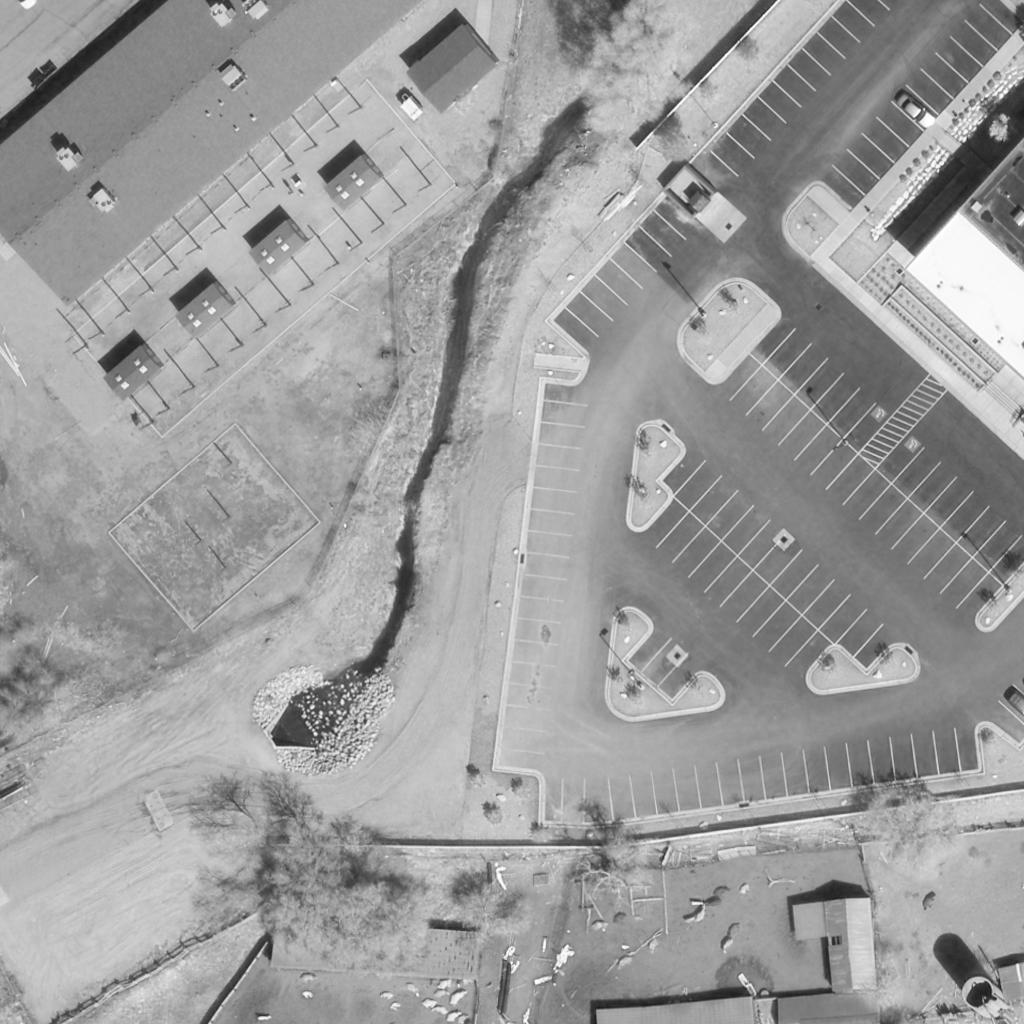vehicle: (896, 93, 938, 131)
